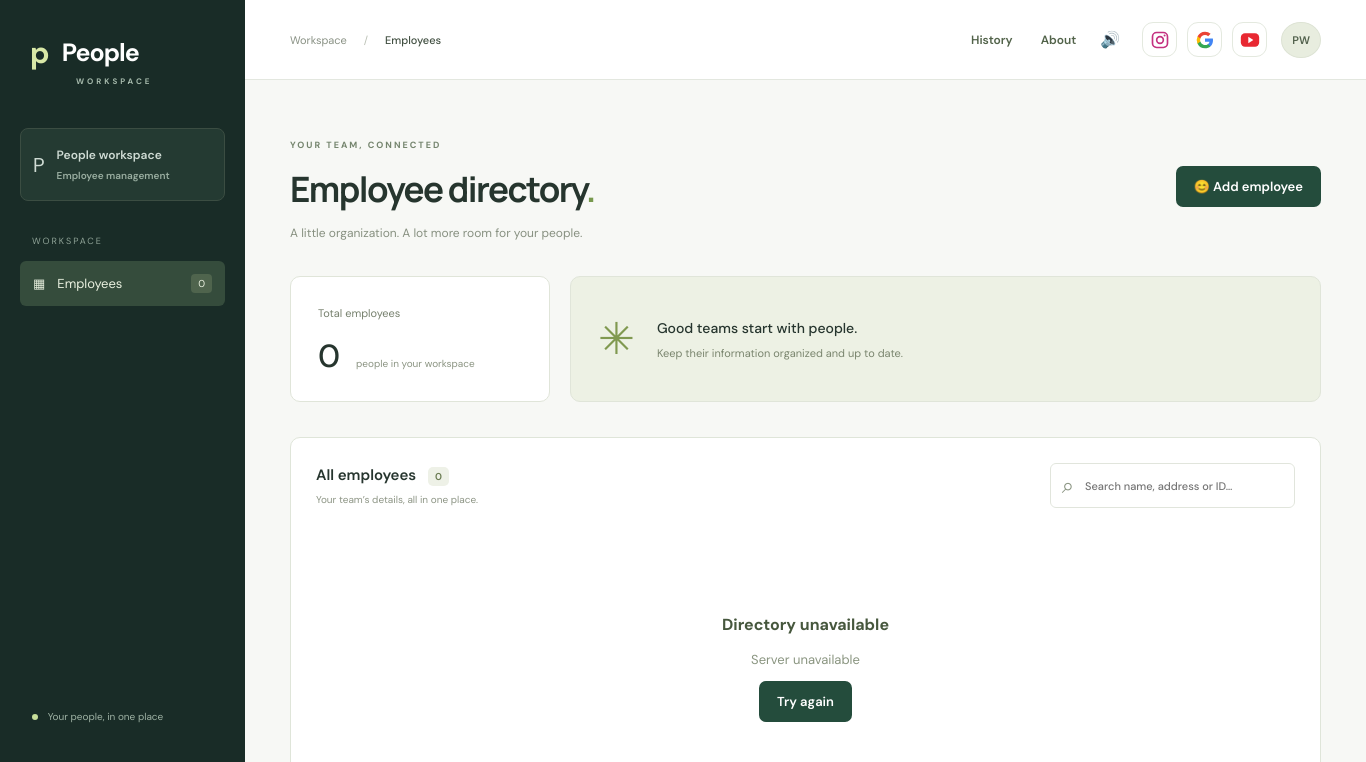
Test case: offers retry after an API error
Expected: the heading "Directory unavailable" is shown, 722,614 -> 889,635
Click the button "Try again".
click(806, 702)  # box 759,681 -> 852,722
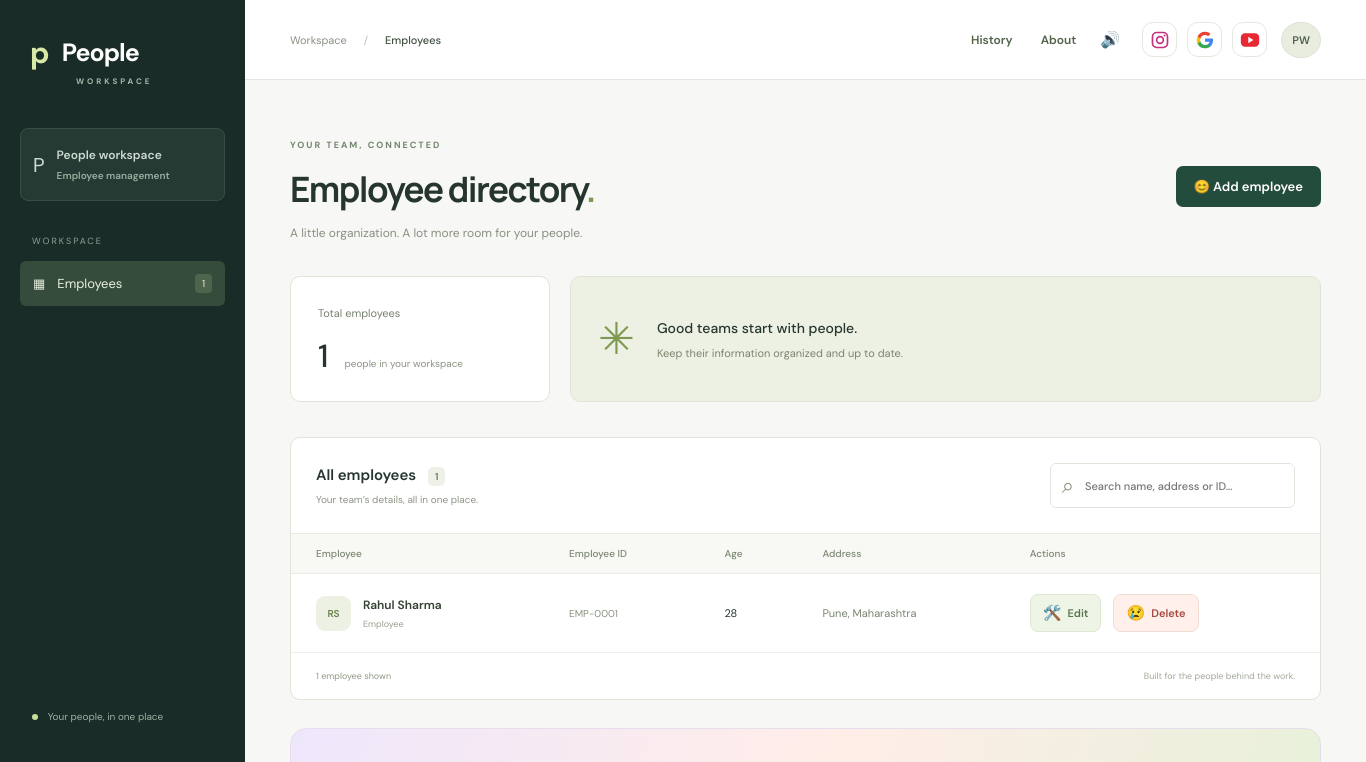
Now the text "Rahul Sharma" is shown, box 363,596 -> 442,630
